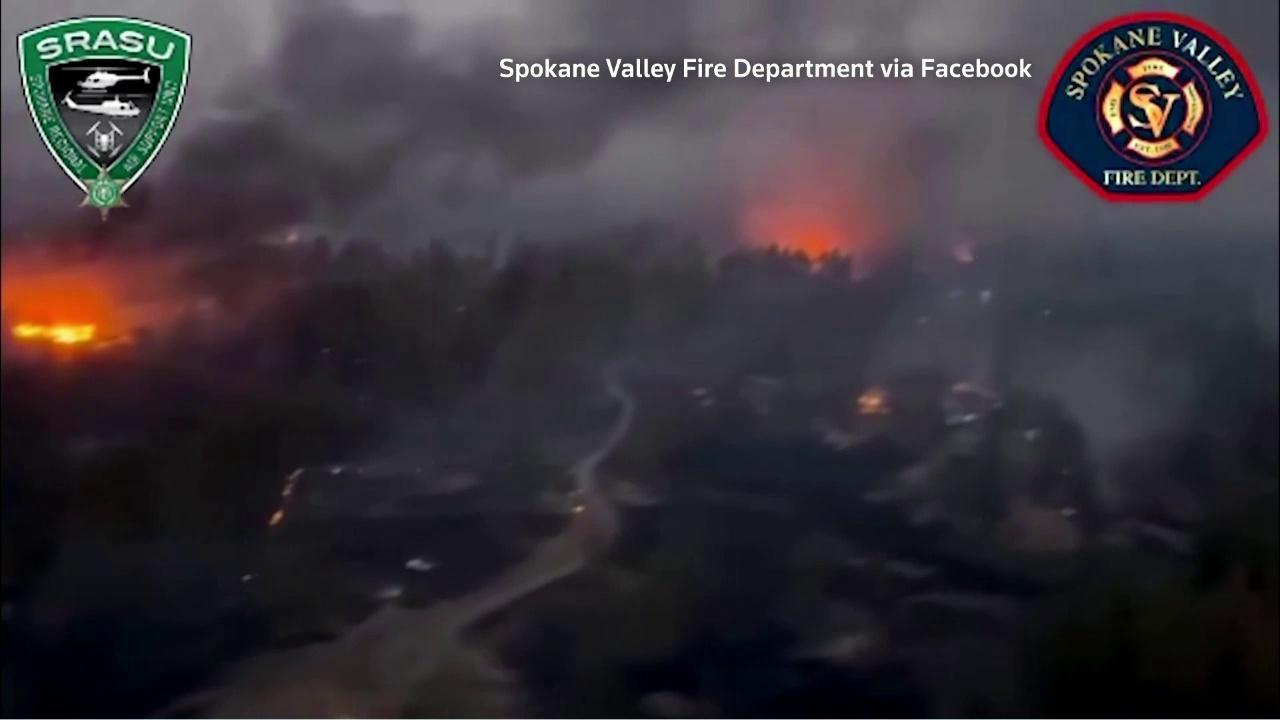fire: (8, 315, 101, 350), (851, 386, 894, 417), (280, 466, 305, 498), (264, 508, 289, 533)
smoke: (0, 0, 1280, 470)
